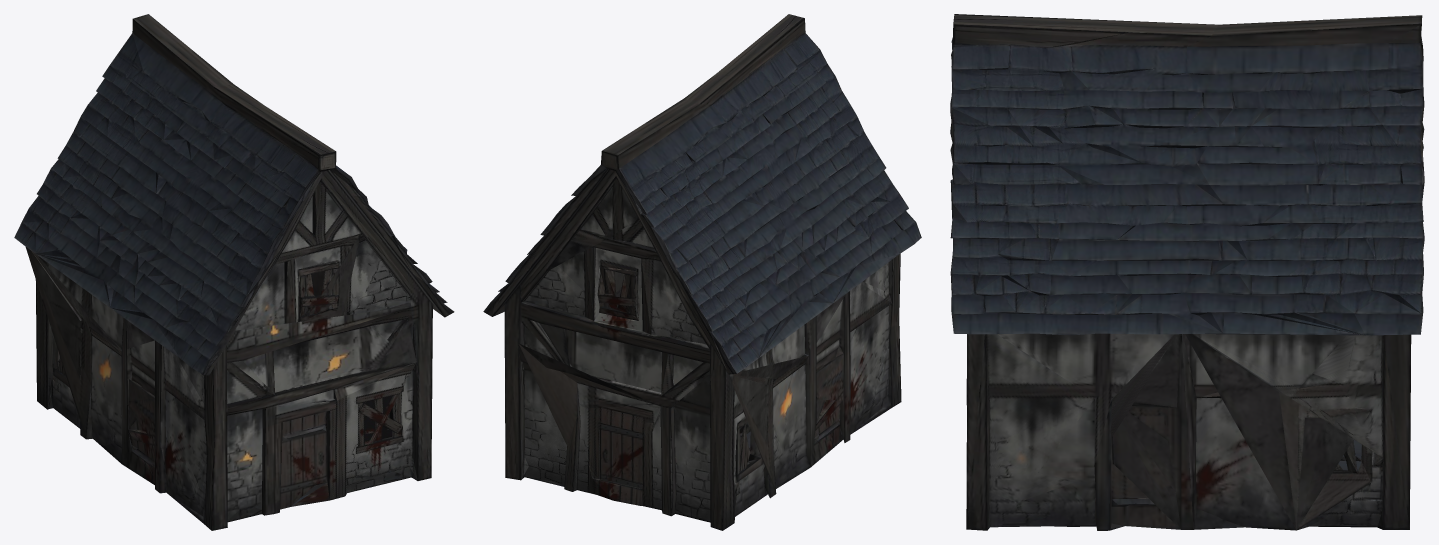
Rendered from prop-house-b.glb.
3 views of the same model, side by side, from view 1: azimuth 30°, elevation 25°; view 2: azimuth 150°, elevation 25°; view 3: azimuth 270°, elevation 25° (orthographic). The views are drawn at different scales.
Size of the model in its own units: 1.42 by 1.89 by 1.83.
Materials: 1 (1 with a texture image).
